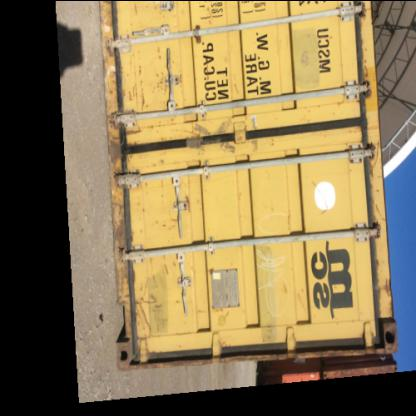Damage: (120, 254, 168, 336), (96, 1, 124, 112), (170, 176, 192, 235), (365, 187, 389, 237), (125, 64, 151, 110), (308, 172, 334, 218), (107, 115, 125, 174), (212, 298, 244, 327), (128, 180, 152, 214), (198, 38, 214, 89), (368, 138, 386, 176), (378, 274, 398, 306), (116, 220, 148, 240), (206, 261, 236, 279), (156, 70, 174, 98), (146, 155, 180, 169), (298, 286, 314, 310), (299, 102, 329, 114), (201, 160, 217, 182), (146, 4, 166, 20), (285, 207, 297, 233), (173, 293, 191, 309), (233, 74, 244, 96), (248, 115, 264, 130), (156, 44, 168, 62), (251, 138, 264, 154), (270, 134, 282, 150), (128, 126, 147, 136), (284, 279, 294, 295), (130, 6, 142, 18), (337, 96, 349, 107)
